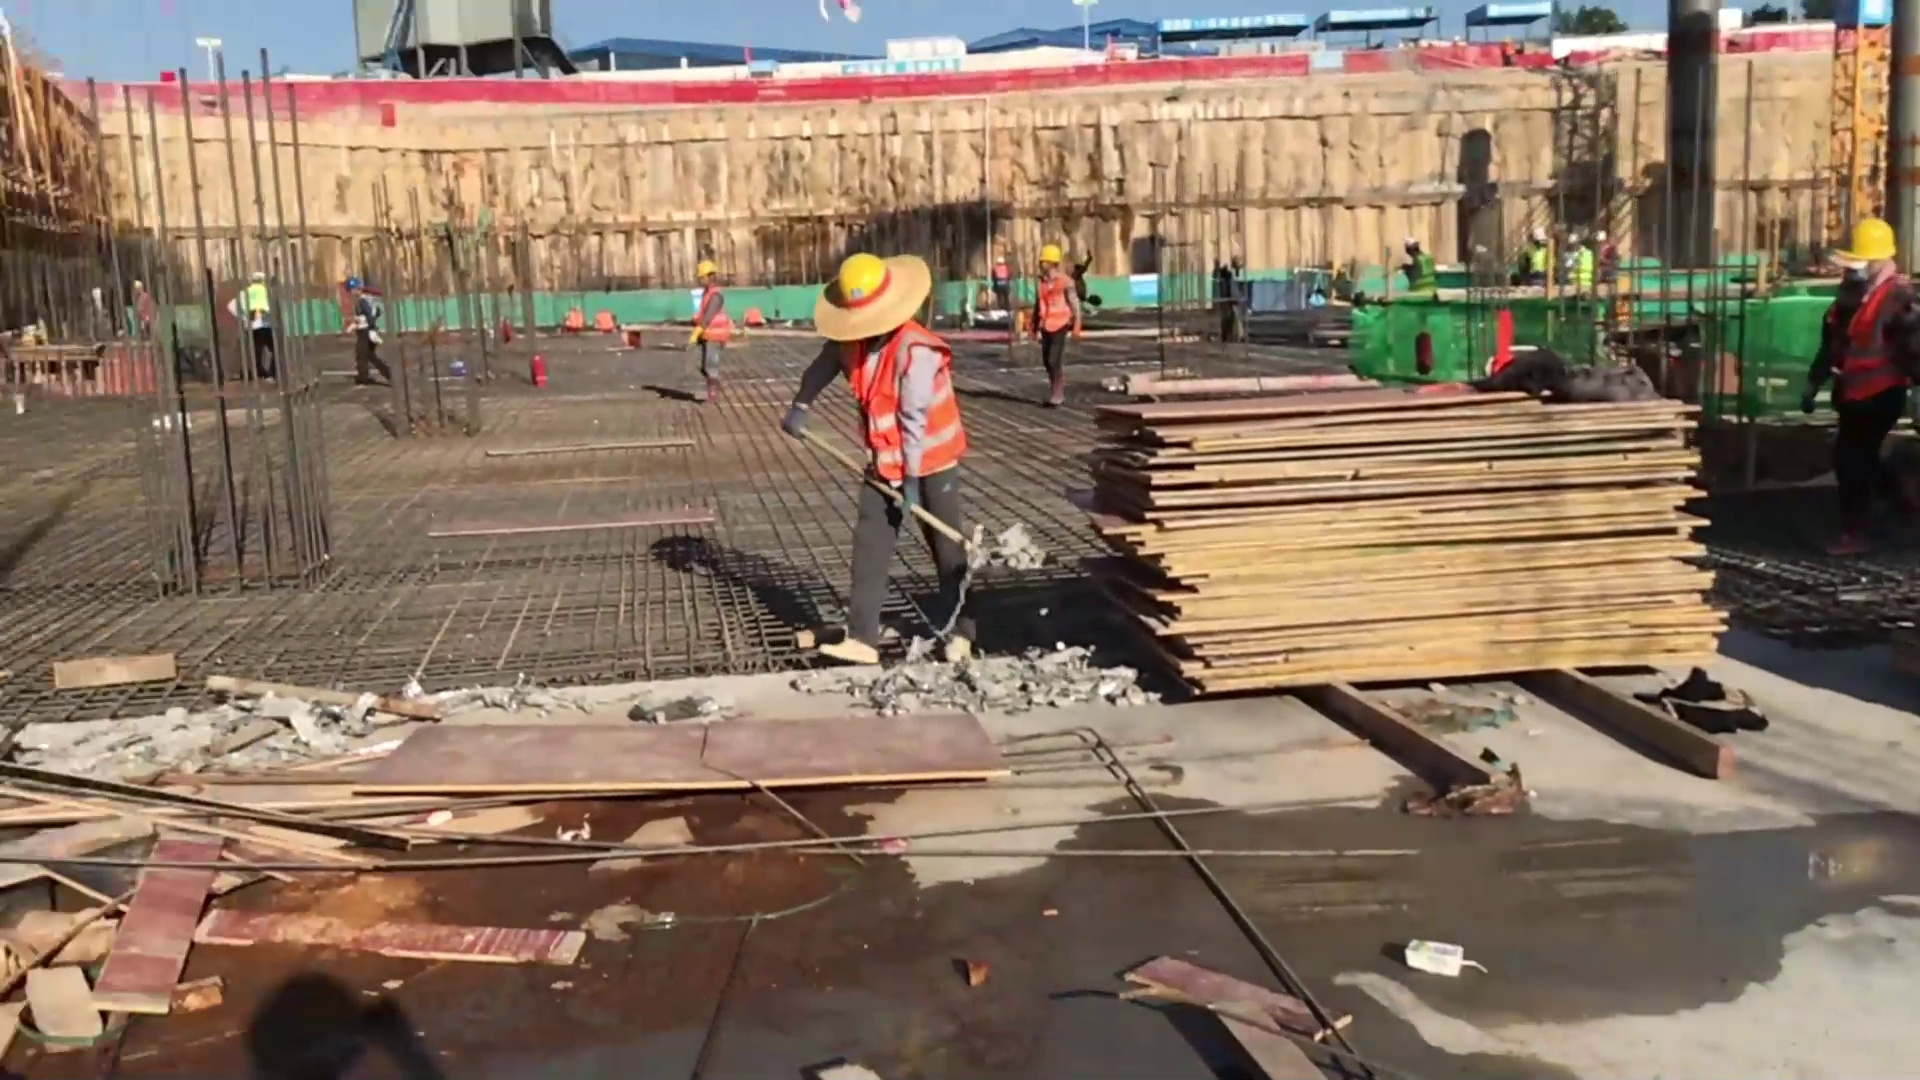board: (1100, 384, 1723, 693)
helmet: (831, 251, 897, 304), (1038, 246, 1061, 264), (696, 261, 716, 276)
person: (805, 249, 973, 660), (1804, 214, 1917, 547), (686, 258, 731, 399), (1035, 243, 1073, 400), (231, 270, 279, 381), (343, 274, 385, 377), (1398, 238, 1438, 301), (1519, 224, 1554, 284), (1596, 228, 1623, 288), (1564, 233, 1590, 286), (990, 256, 1011, 319)
vest: (833, 324, 974, 487), (695, 290, 733, 343), (1040, 277, 1073, 334)
